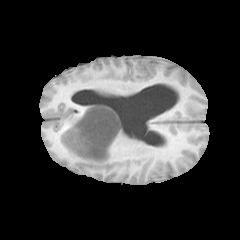glioma: (59, 105, 133, 168)
